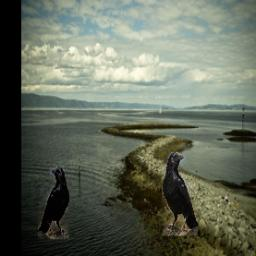Crow: (163, 152, 199, 236), (38, 167, 69, 239)
